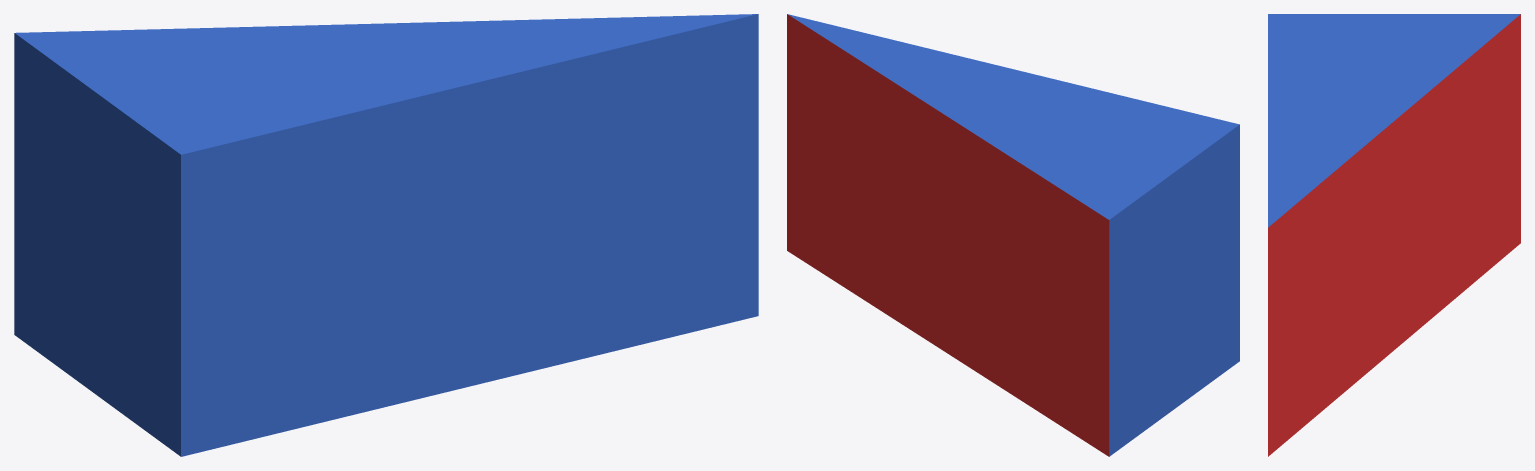
The model's file is test4_prism.fbx.
3 renders of one model, left to right at view 1: azimuth 30°, elevation 25°; view 2: azimuth 150°, elevation 25°; view 3: azimuth 270°, elevation 25°, orthographic. The views are drawn at different scales.
Visible parts, largest first — view 1: Wedge; view 2: Wedge; view 3: Wedge.
Boxes of the visible parts, left/top/right/bottom form: Wedge: left=14, top=14, right=758, bottom=456; Wedge: left=787, top=14, right=1239, bottom=456; Wedge: left=1268, top=14, right=1520, bottom=456.
Bounding box in the file's own units: 2 × 1 × 1.
